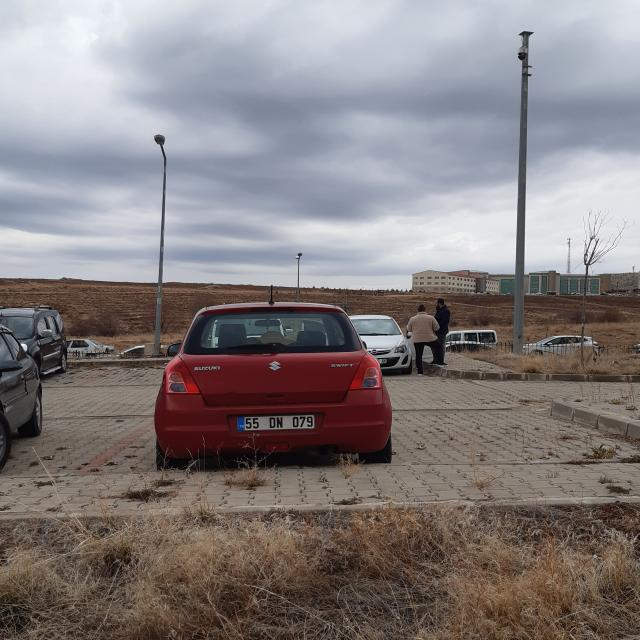plate: (238, 416, 314, 430)
